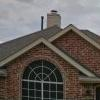Chimney: (42, 5, 65, 33)
